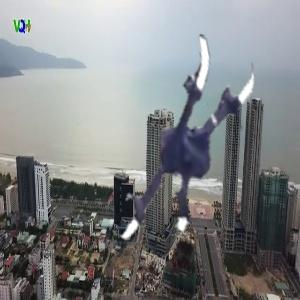drone: (62, 29, 278, 245)
